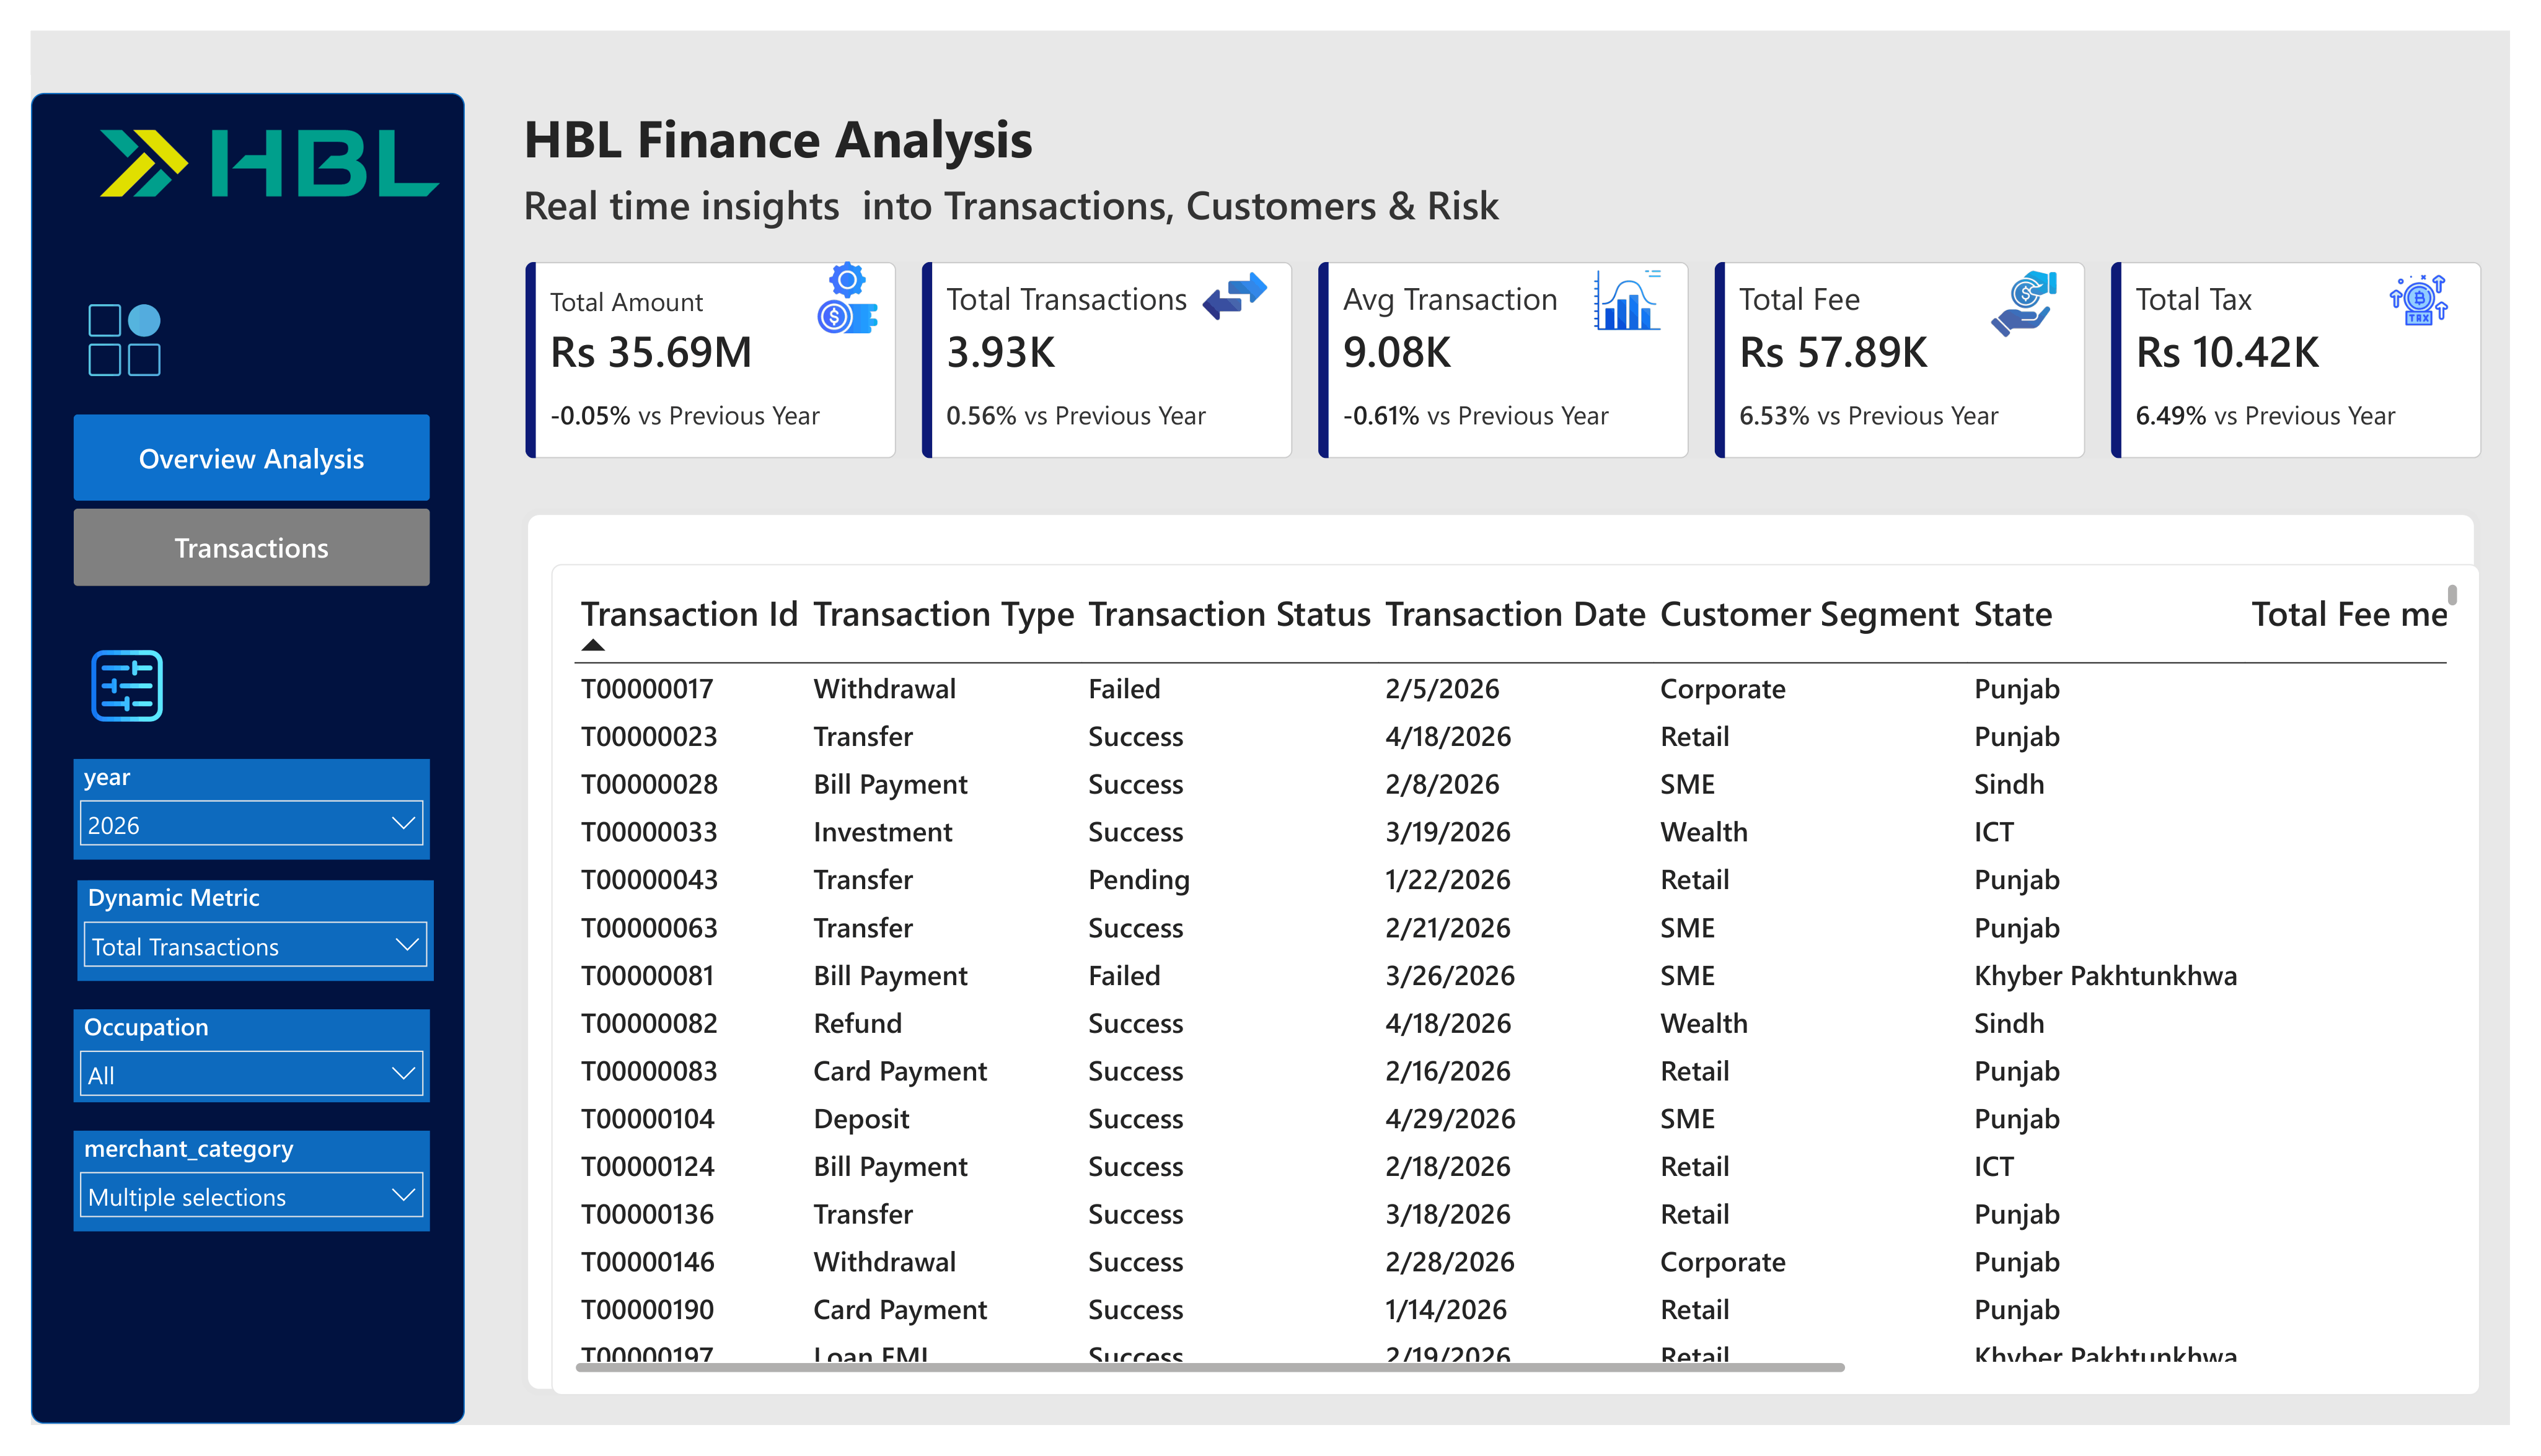

The page's visual inventory and layout, read from the dashboard file:
{"tool":"powerbi","page":{"name":"Transactions","canvas":[1920,1080],"ordinal":1},"visuals":[{"type":"shape","box":[14.4,26,338,1031.3],"z":0},{"type":"image","box":[34.7,26,300.4,153.1],"z":1000},{"type":"cardVisual","title":"HBL Finance Analysis","fields":{"Data":["finance_transactions.Dashboard Title"]},"box":[381.3,54.9,829.1,98.2],"z":2000},{"type":"cardVisual","fields":{"Data":["finance_transactions.Total Amount","finance_transactions.Total Transactions","finance_transactions.Avg transaction Value","finance_transactions.Total Fee","finance_transactions.Total Tax"]},"box":[381.6,178.9,1518.4,152.6],"z":3000},{"type":"slicer","fields":{"Values":["Calender Table.year"]},"box":[62.5,414,241.2,92.3],"z":4000},{"type":"image","box":[604.6,178.7,55,55],"z":5000},{"type":"image","box":[905.4,178.7,53.6,53.6],"z":6000},{"type":"image","box":[1515.9,184.7,53.6,53.6],"z":7000},{"type":"image","box":[1209.2,181.7,53.6,53.6],"z":8000},{"type":"image","box":[1822.7,178.7,53.6,59.6],"z":9000},{"type":"slicer","fields":{"Values":["Dynamic Metric.Dynamic Metric"]},"box":[65.5,539.1,205.5,107.2],"z":10000},{"type":"shape","box":[380,370,1516.7,686.7],"z":11000},{"type":"tableEx","fields":{"Values":["finance_transactions.transaction_id","finance_transactions.transaction_type","finance_transactions.transaction_status","finance_transactions.transaction_Date","customers.customer_segment","customers.State","finance_transactions.Total Fee measure","finance_transactions.Total Amount measure M","finance_transactions.Total Tax measure","customers.gender"]},"box":[403.3,413.3,1493.3,643.3],"z":11001}]}

Visuals, with their boxes on the page's 1920x1080 design canvas (x1, y1, x2, y2). These are canvas units, not pixel positions in the 2541x1456 screenshot, which may show the page scaled, cropped or inside an application window:
shape: left=14, top=26, right=352, bottom=1057
image: left=35, top=26, right=335, bottom=179
"HBL Finance Analysis" cardVisual: left=381, top=55, right=1210, bottom=153
cardVisual - finance_transactions.Total Amount x finance_transactions.Total Transactions: left=382, top=179, right=1900, bottom=332
slicer - Calender Table.year: left=62, top=414, right=304, bottom=506
image: left=605, top=179, right=660, bottom=234
image: left=905, top=179, right=959, bottom=232
image: left=1516, top=185, right=1570, bottom=238
image: left=1209, top=182, right=1263, bottom=235
image: left=1823, top=179, right=1876, bottom=238
slicer - Dynamic Metric.Dynamic Metric: left=66, top=539, right=271, bottom=646
shape: left=380, top=370, right=1897, bottom=1057
tableEx - finance_transactions.transaction_id x finance_transactions.transaction_type: left=403, top=413, right=1897, bottom=1057
